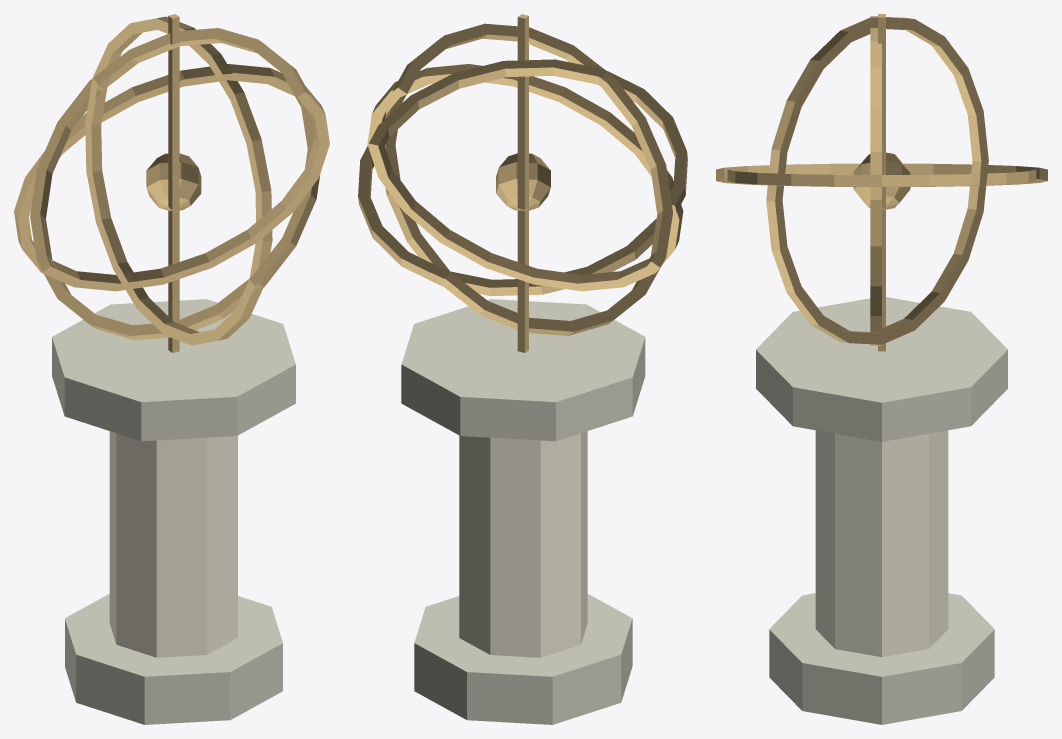
File: tidal-armillary-instrument__263.glb
3 views of the same model, side by side, from view 1: azimuth 30°, elevation 25°; view 2: azimuth 150°, elevation 25°; view 3: azimuth 270°, elevation 25° (orthographic).
Parts seen in each view (by area): view 1: tidal-observatory-armillary; view 2: tidal-observatory-armillary; view 3: tidal-observatory-armillary.
Part boxes in pixels (x1,y1,x2,y2): tidal-observatory-armillary: (14,14,329,724); tidal-observatory-armillary: (358,14,687,724); tidal-observatory-armillary: (716,14,1047,724).
Size of the model in its own units: 1 by 2.2 by 1.
